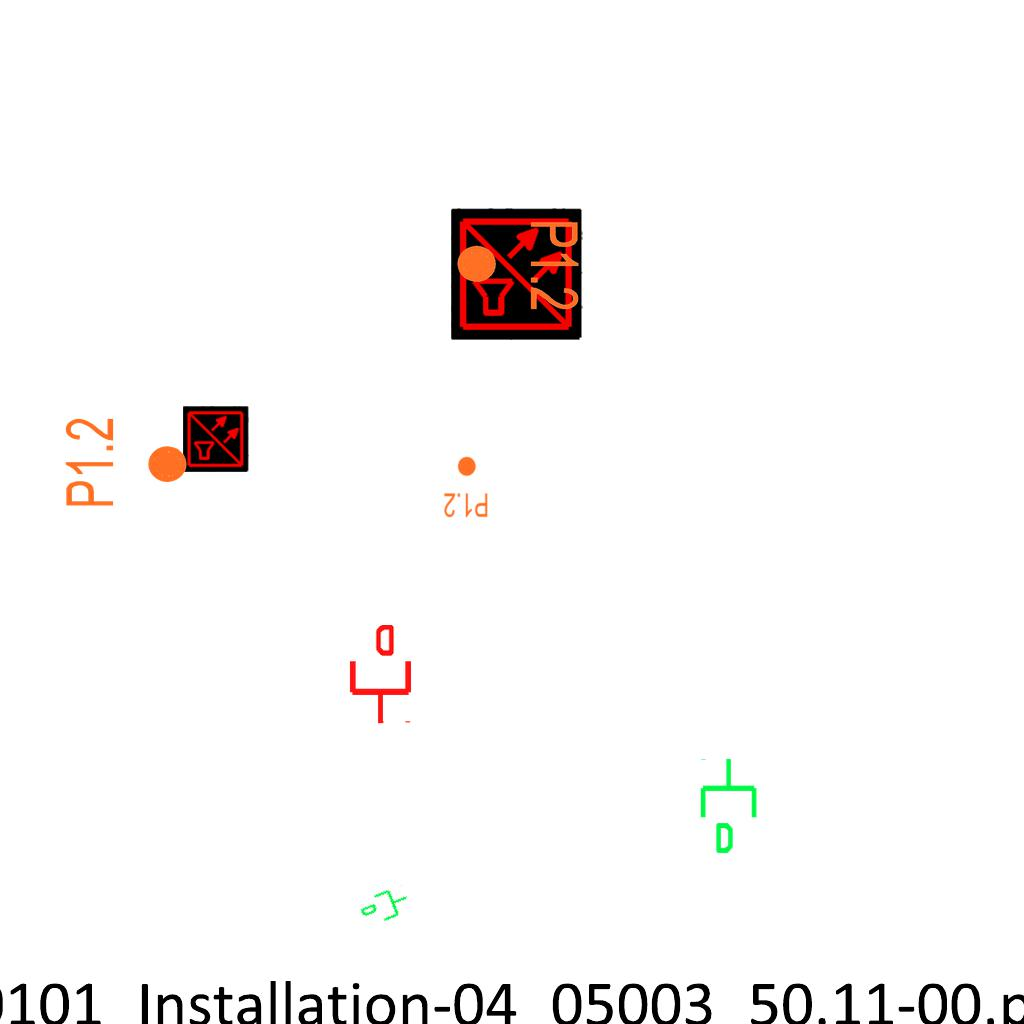Datenanschluss_einfach: (696, 756, 765, 856), (346, 625, 415, 725), (355, 881, 415, 933)
Downlight_LED_Einbauleuchten_Flur: (62, 416, 190, 509), (454, 219, 582, 312), (443, 455, 489, 519)
OKW_Multisensormelder_(Kombination_optischer_Rauch-Kahlenmonoxid_Waerme-Melder): (451, 208, 583, 340), (183, 406, 249, 472)
